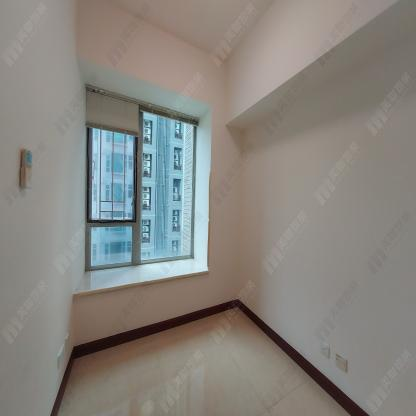Windowsill: (74, 56, 214, 299)
